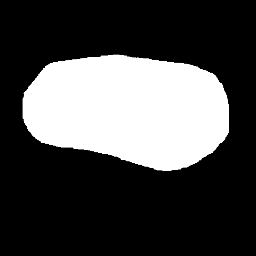mass: (29, 54, 230, 176)
